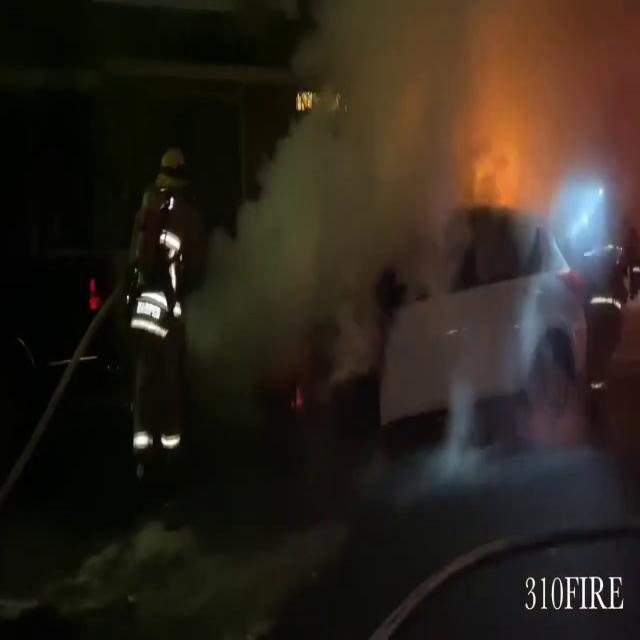Smoke: (192, 0, 609, 442)
